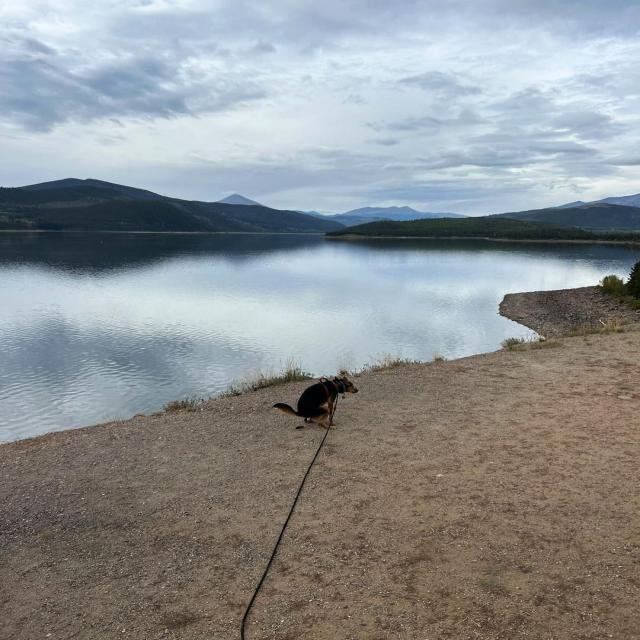squatting: (275, 364, 361, 434)
